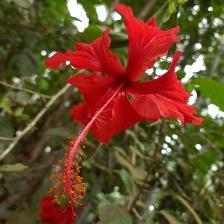hibiscus: (42, 1, 205, 224)
